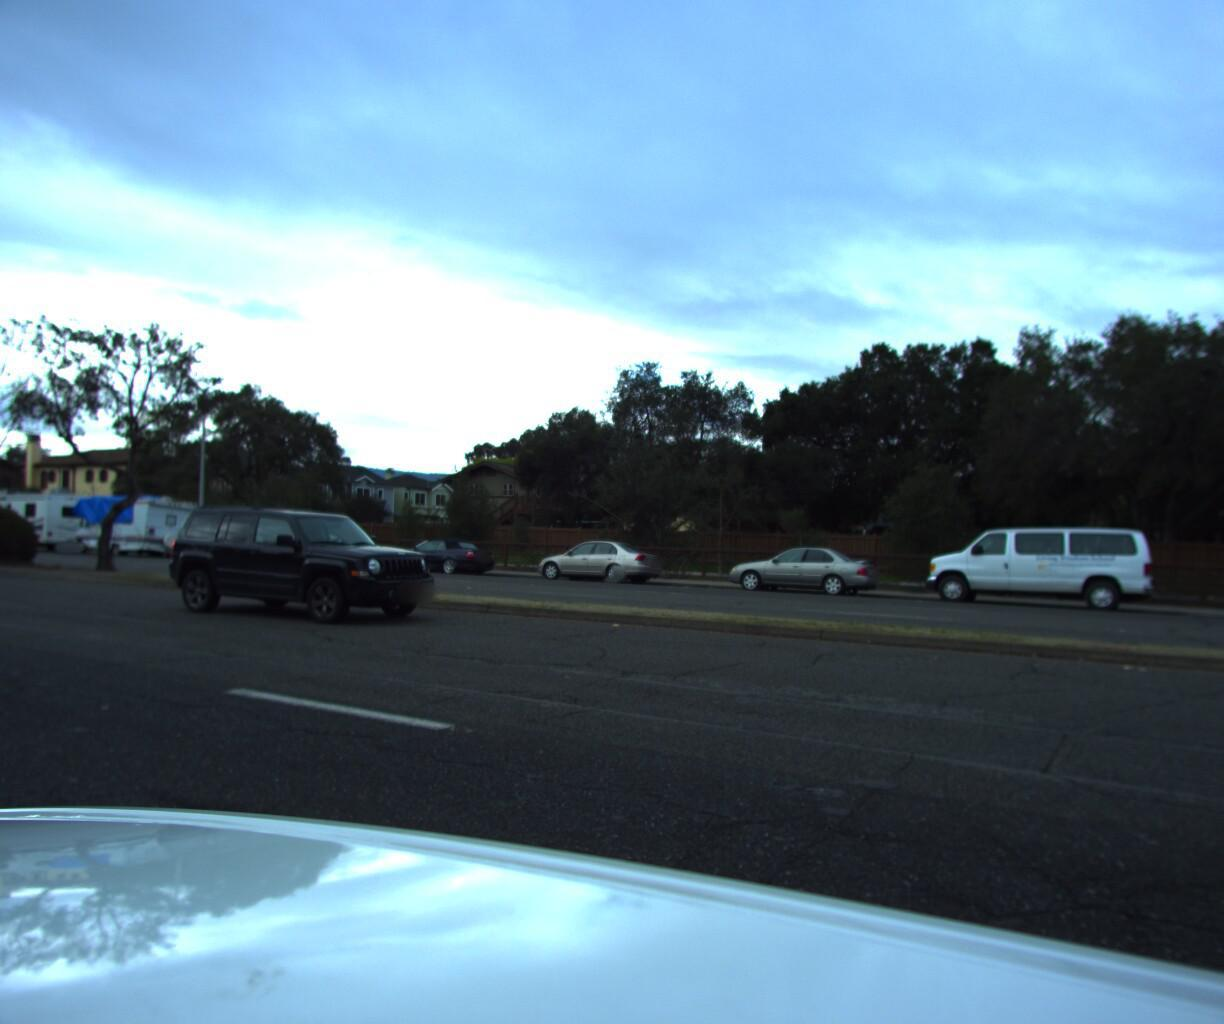car: (156, 495, 455, 626), (917, 515, 1153, 612), (718, 537, 885, 595), (530, 532, 669, 582), (379, 527, 500, 573)
other_vehicle: (61, 486, 203, 556), (0, 478, 101, 550)
